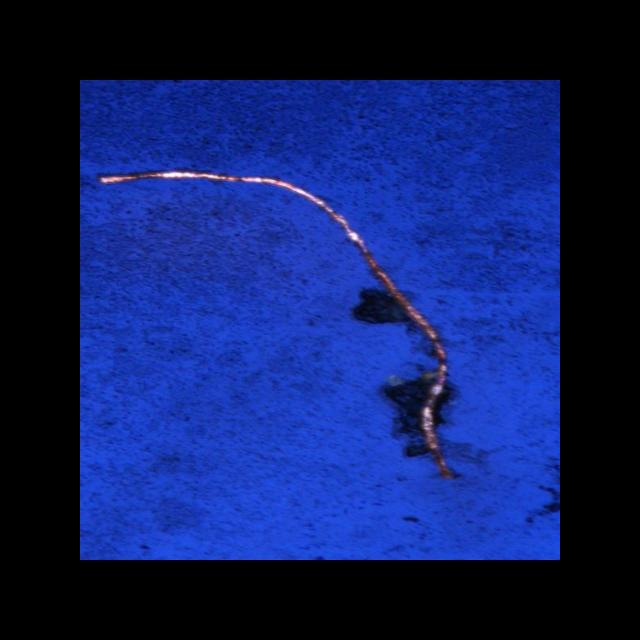Fibre: (96, 170, 464, 480)
